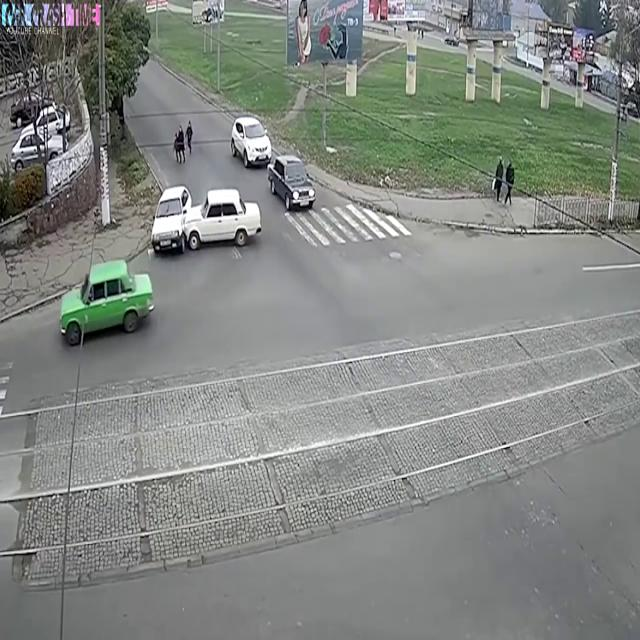accident: (32, 65, 382, 403)
